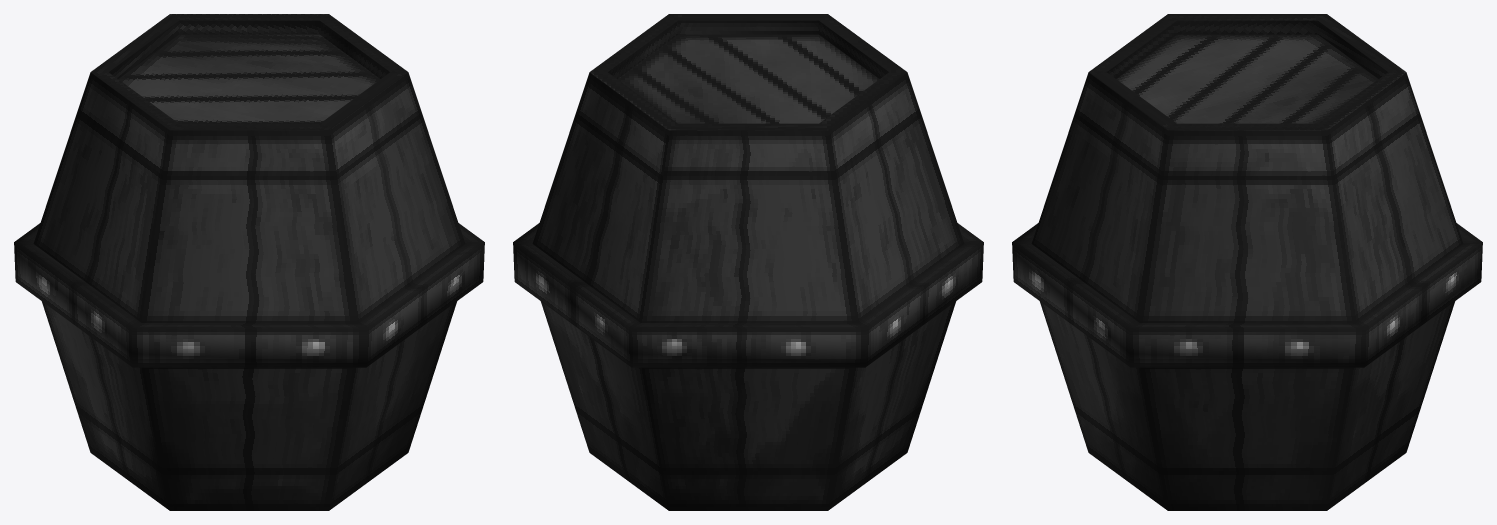
The model's file is explosive_barrel.glb.
The picture shows the model from 3 angles, left to right: view 1: azimuth 30°, elevation 25°; view 2: azimuth 150°, elevation 25°; view 3: azimuth 270°, elevation 25°; orthographic projection.
Parts seen in each view (by area): view 1: Cylinder.001; view 2: Cylinder.001; view 3: Cylinder.001.
Part boxes in pixels (<box>): Cylinder.001: <box>14,14,484,510</box>; Cylinder.001: <box>513,14,983,510</box>; Cylinder.001: <box>1012,14,1482,510</box>.
Bounding box in the file's own units: 1.94 × 2 × 2.24.
Materials: 1 (1 with a texture image).
